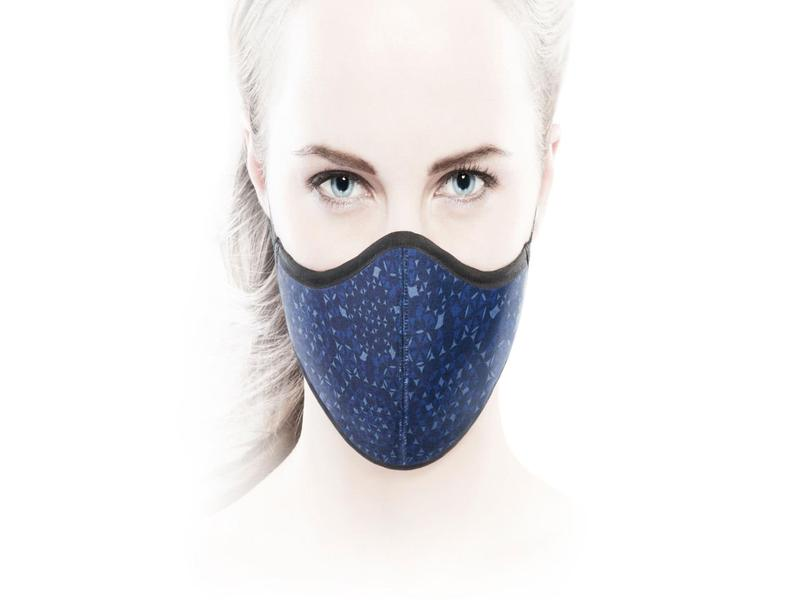with_mask: (266, 2, 544, 474)
